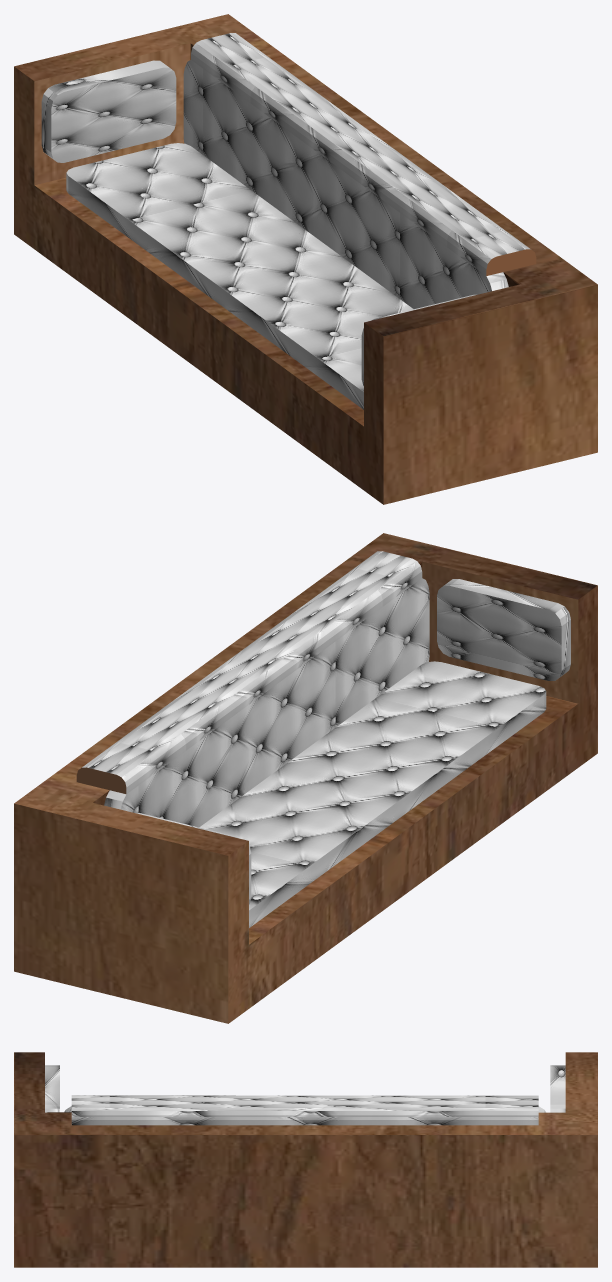
File: Sofa.fbx
The picture shows the model from 3 angles, top to bottom: view 1: azimuth 30°, elevation 25°; view 2: azimuth 150°, elevation 25°; view 3: azimuth 270°, elevation 25°; orthographic projection. The views are drawn at different scales.
Visible parts, largest first — view 1: Cube.001; view 2: Cube.001; view 3: Cube.001.
Boxes of the visible parts, <box> form: Cube.001: <box>14,14,597,504</box>; Cube.001: <box>14,533,597,1023</box>; Cube.001: <box>14,1052,597,1267</box>.
Bounding box in the file's own units: 93.32 × 77.02 × 279.
2 materials, 2 textured.
